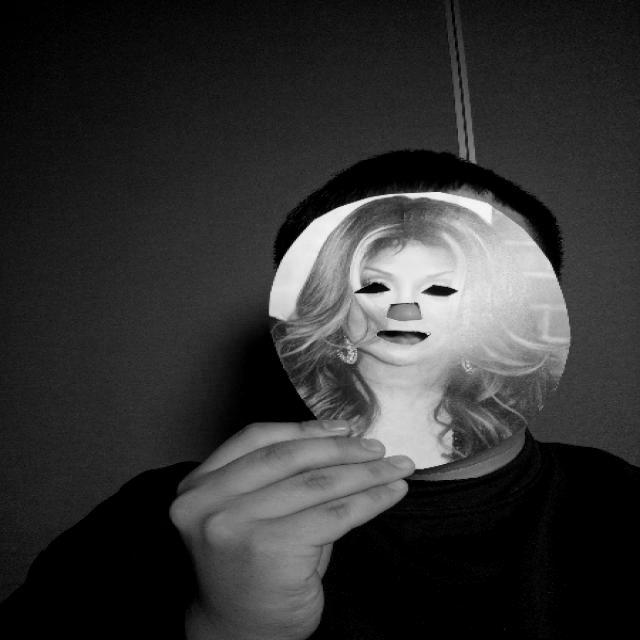real: (265, 188, 577, 474)
